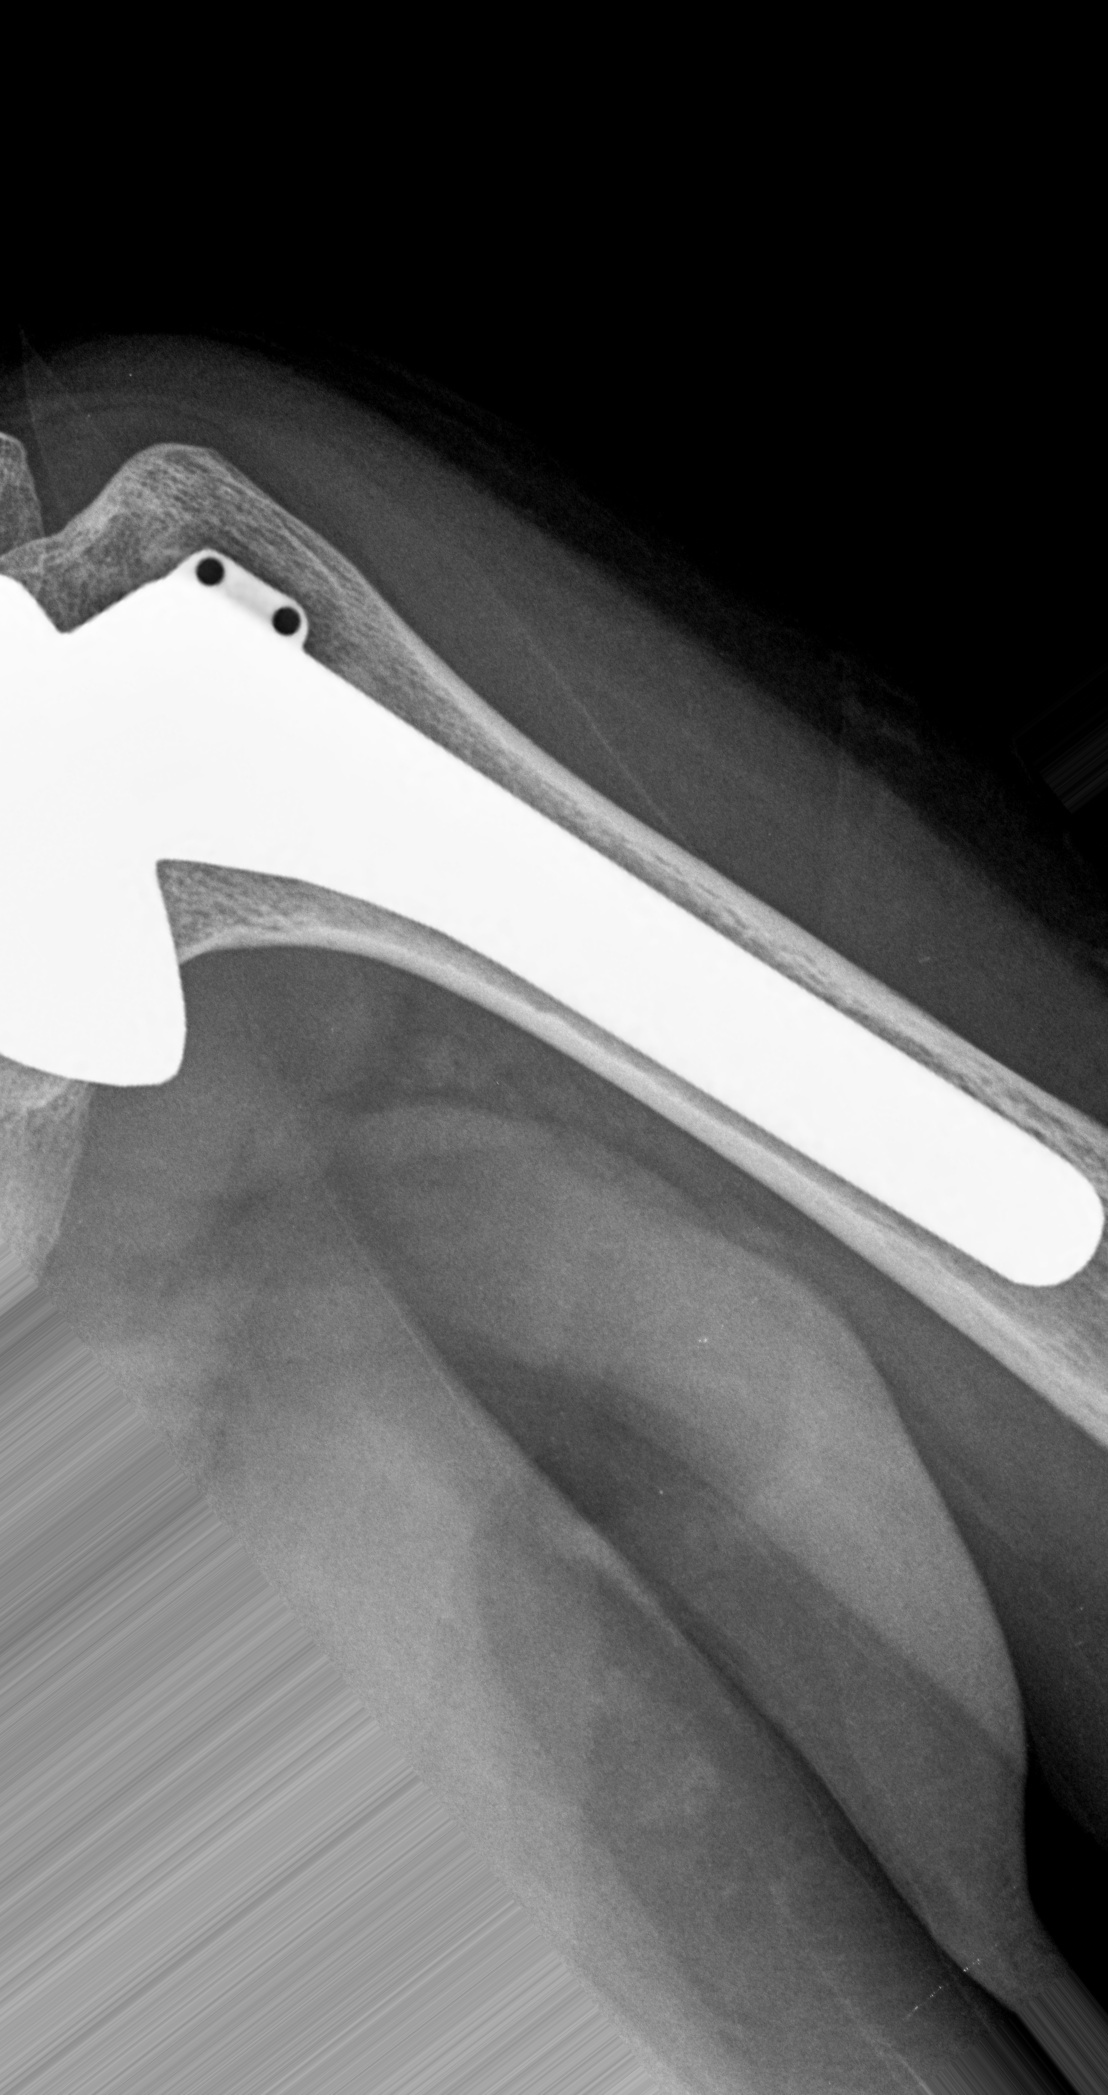Shoulder - AequalisPressfit - Tornier: (1, 539, 355, 1136)
